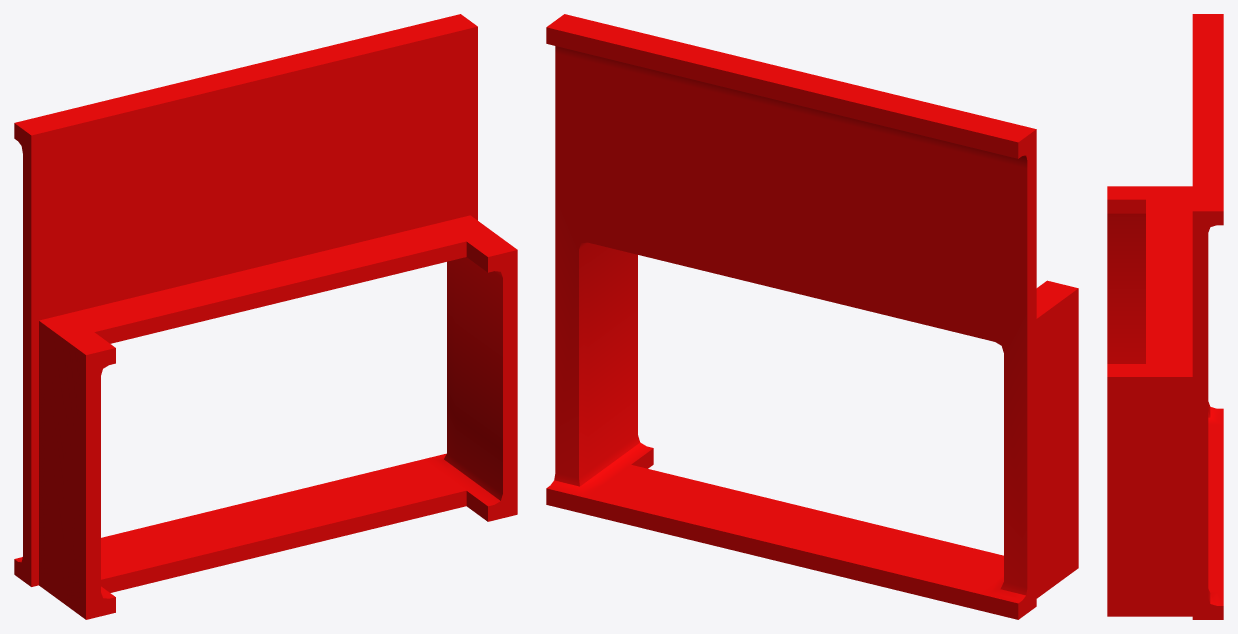
Rendered from SM_Transition-1-2_E.fbx.
3 views of the same model, side by side, from view 1: azimuth 30°, elevation 25°; view 2: azimuth 150°, elevation 25°; view 3: azimuth 270°, elevation 25° (orthographic). The views are drawn at different scales.
Visible parts, largest first — view 1: SM_Transition-1-2_E; view 2: SM_Transition-1-2_E; view 3: SM_Transition-1-2_E.
Boxes of the visible parts, x1=… form: SM_Transition-1-2_E: x1=14, y1=14, x2=517, y2=619; SM_Transition-1-2_E: x1=546, y1=14, x2=1078, y2=619; SM_Transition-1-2_E: x1=1107, y1=14, x2=1223, y2=619.
Bounding box in the file's own units: 600 × 150 × 580.
